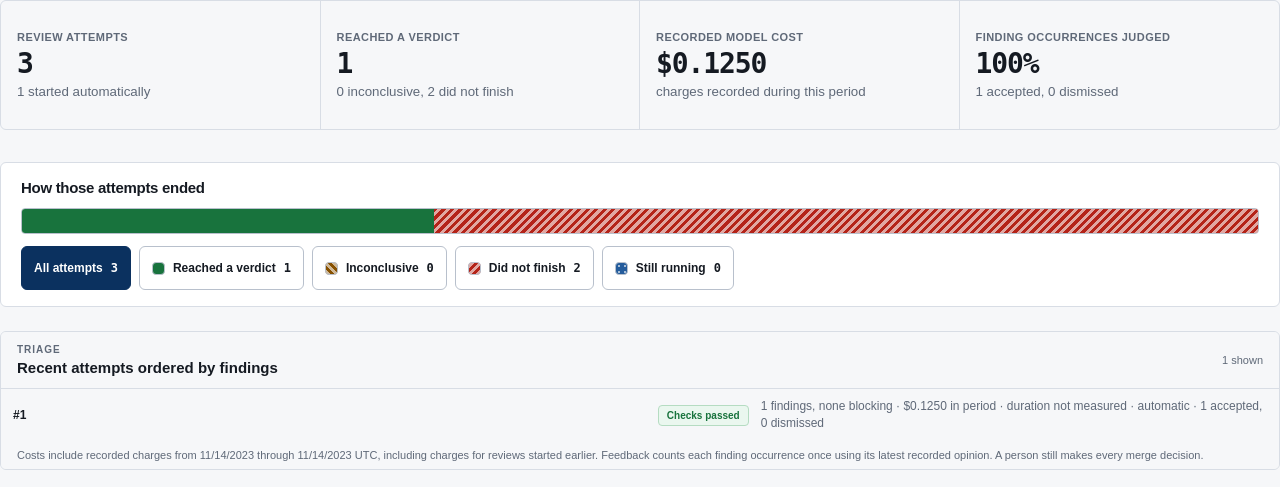
it: truthful history figures › distinguishes an outcome that did not occur from one whose rows were not listed
The width and height of the screenshot is (1280, 487).
Click the button "Did not finish 2" at [524, 268], box [455,246,594,290]
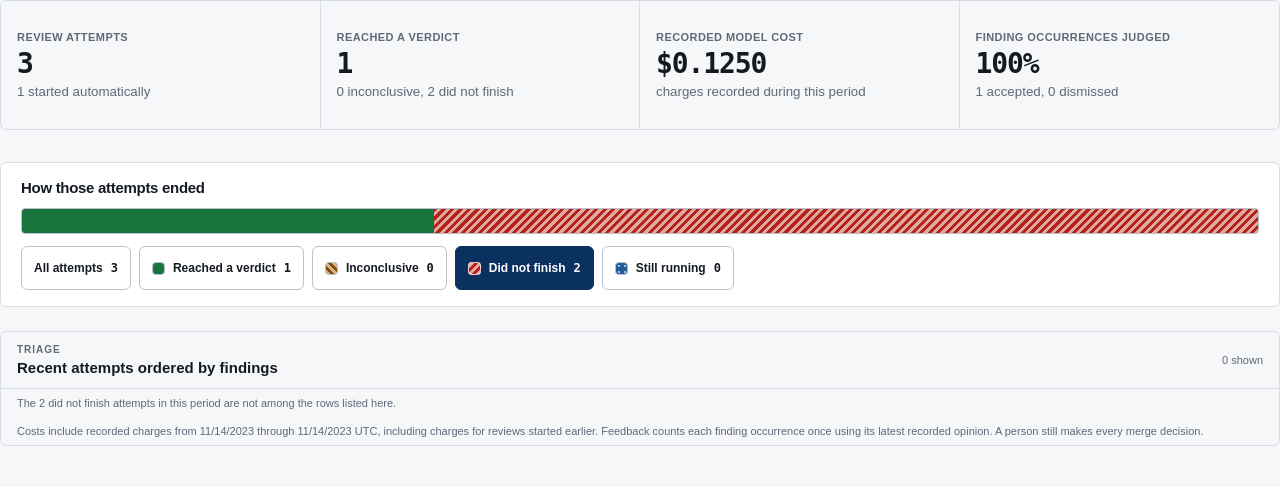
Expected: the text "are not among the rows listed here" is shown, [17,397,396,409]
Click the button "Inconclusive 0" at [379, 268], box [312,246,447,290]
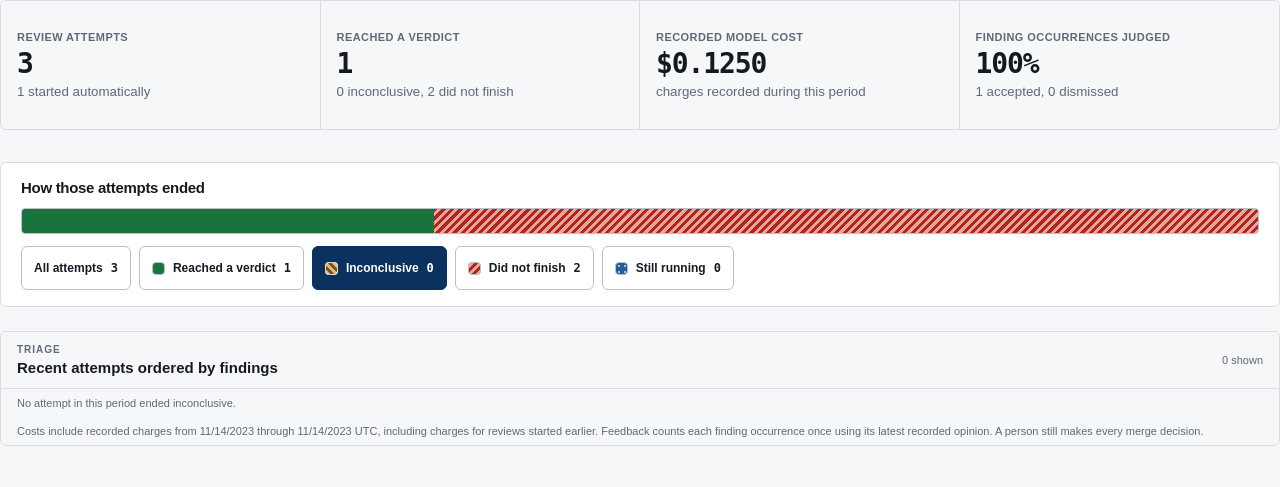
Expected: the text "No attempt in this period ended inconclusive." is shown, [1,389,1279,417]
